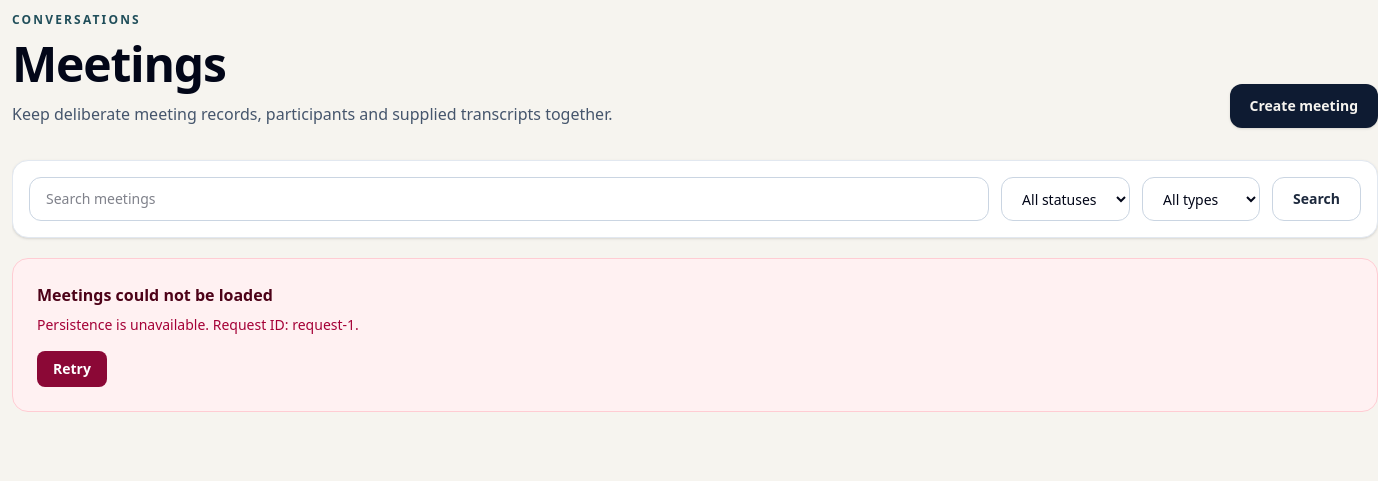
Test case: MeetingList › shows a safe error with retry
Expected: the message shows "Persistence is unavailable.", top-left (37, 315), bottom-right (359, 334)
Click the button "Retry". click: [72, 369]
box: top-left (37, 351), bottom-right (107, 387)
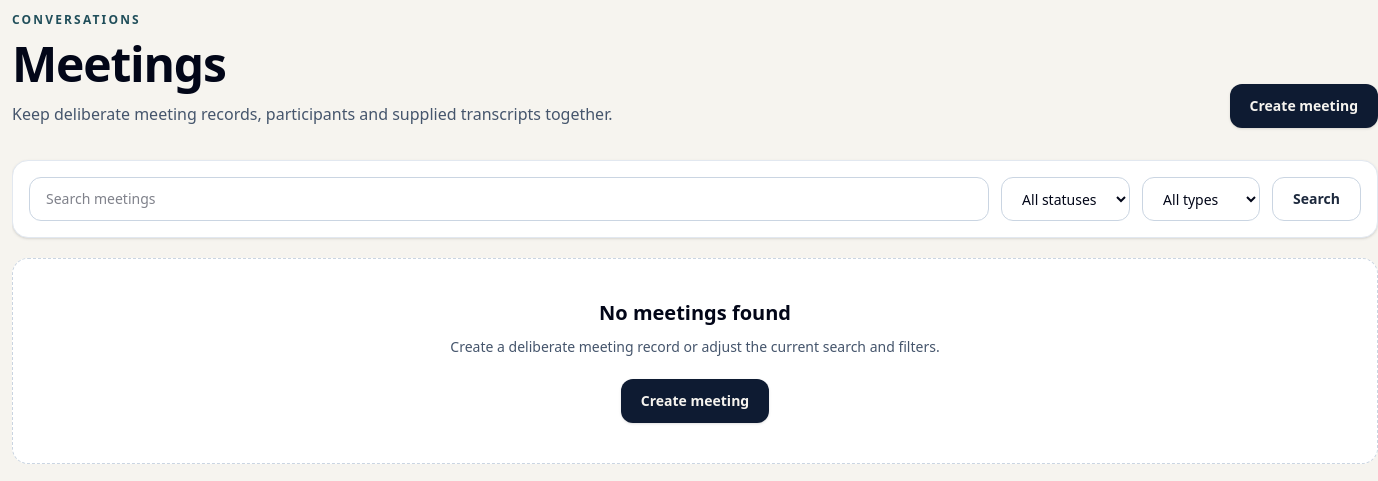
Now the heading "No meetings found" is shown, box top-left (599, 299), bottom-right (791, 326)
